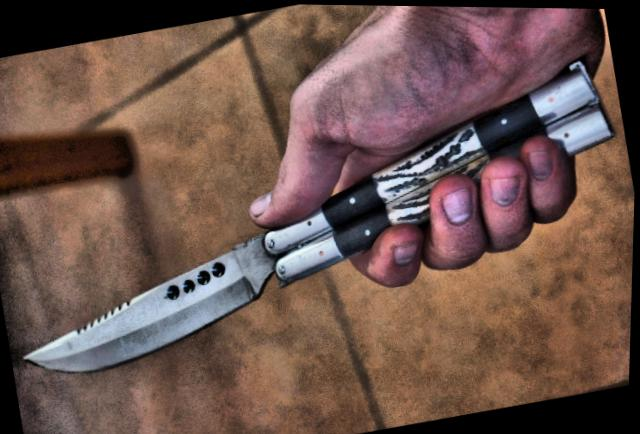knife: (0, 80, 507, 392)
